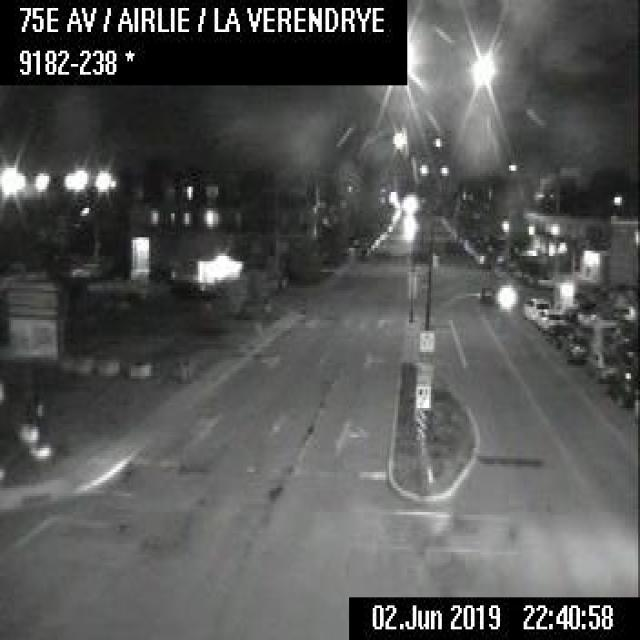vehicle: (560, 330, 586, 361), (545, 319, 574, 346), (523, 295, 549, 321), (538, 306, 563, 331)
